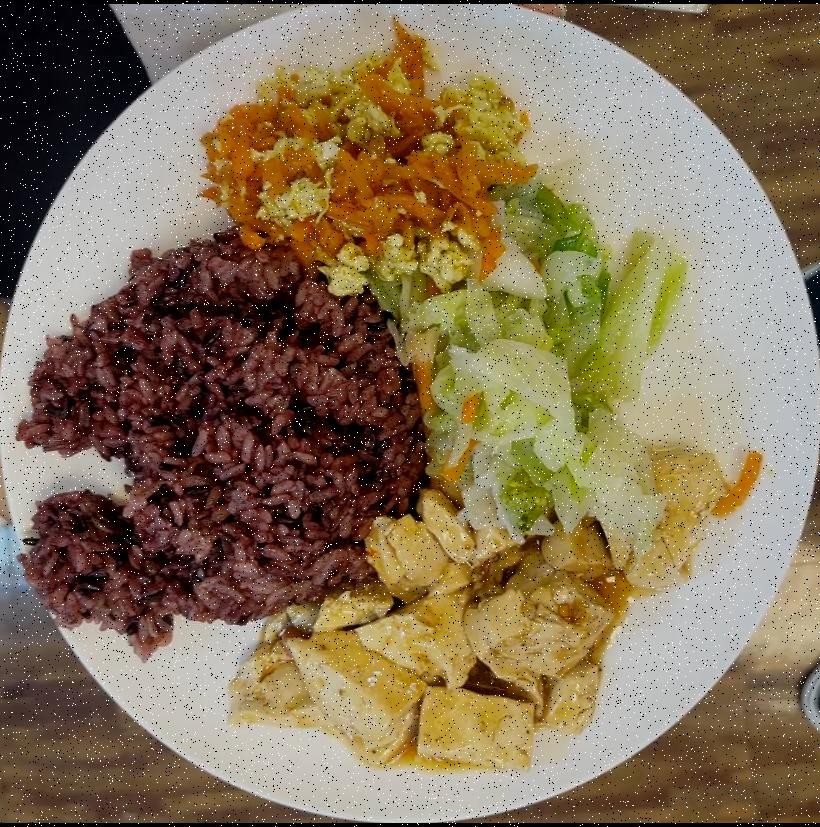plate: (5, 10, 804, 813)
purple rice: (19, 226, 427, 643)
side dish: (237, 498, 622, 774), (379, 208, 622, 539), (205, 38, 507, 288)
